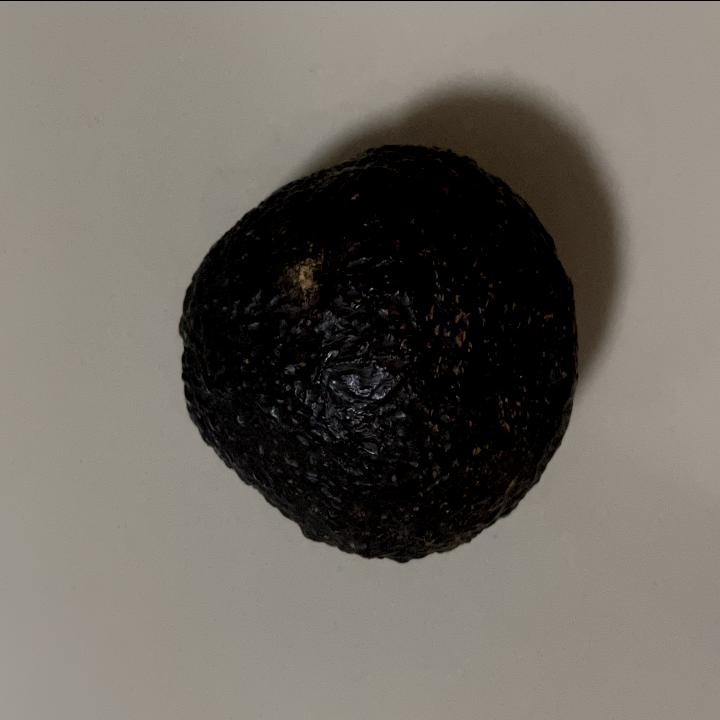Level3: (168, 134, 586, 578)
